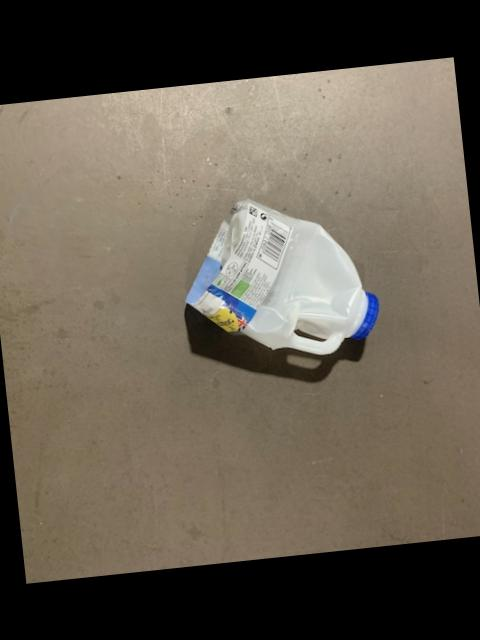plastic: (188, 201, 378, 354)
